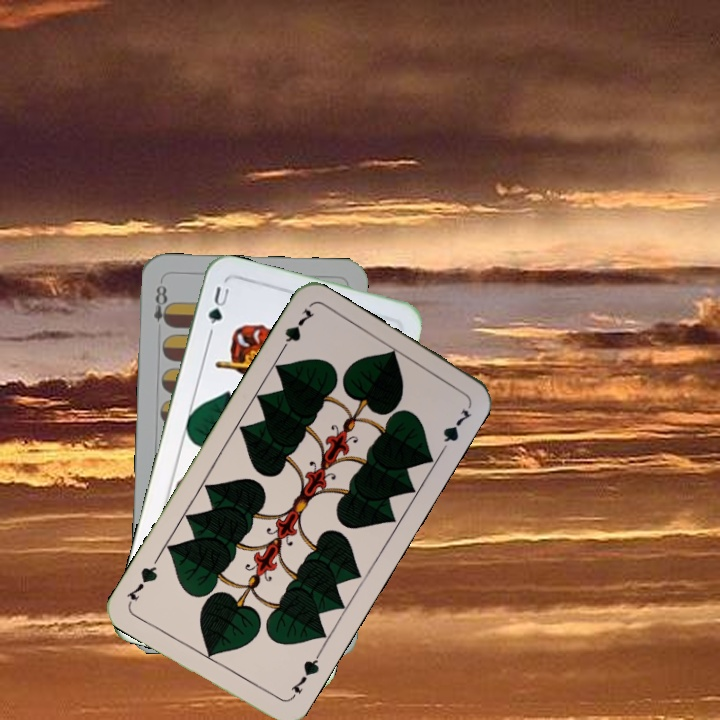E8: (150, 278, 173, 329)
G7: (275, 303, 317, 357), (285, 650, 323, 703)
GU: (204, 282, 232, 327)
